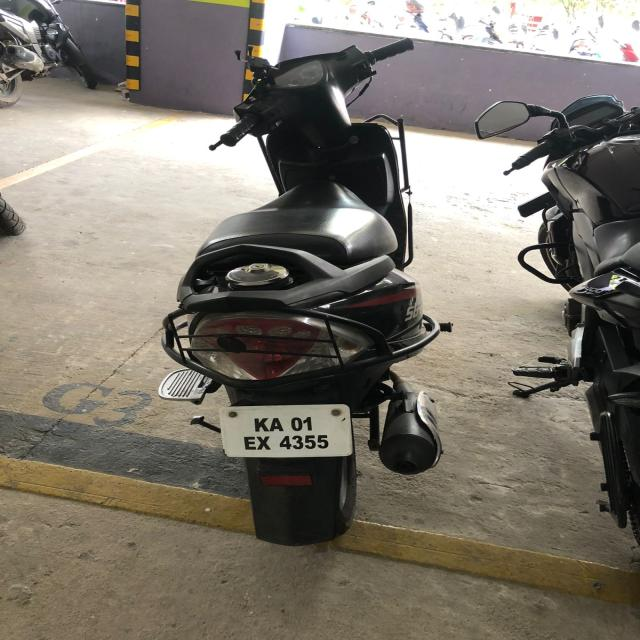license_plate: (218, 402, 354, 458)
